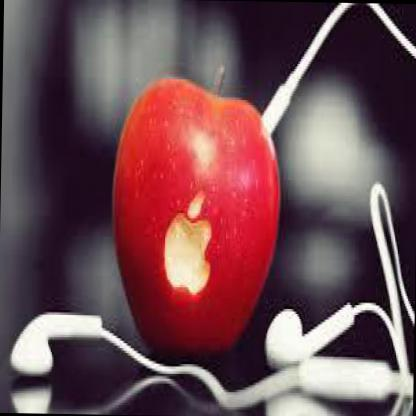apple: (110, 62, 283, 357)
